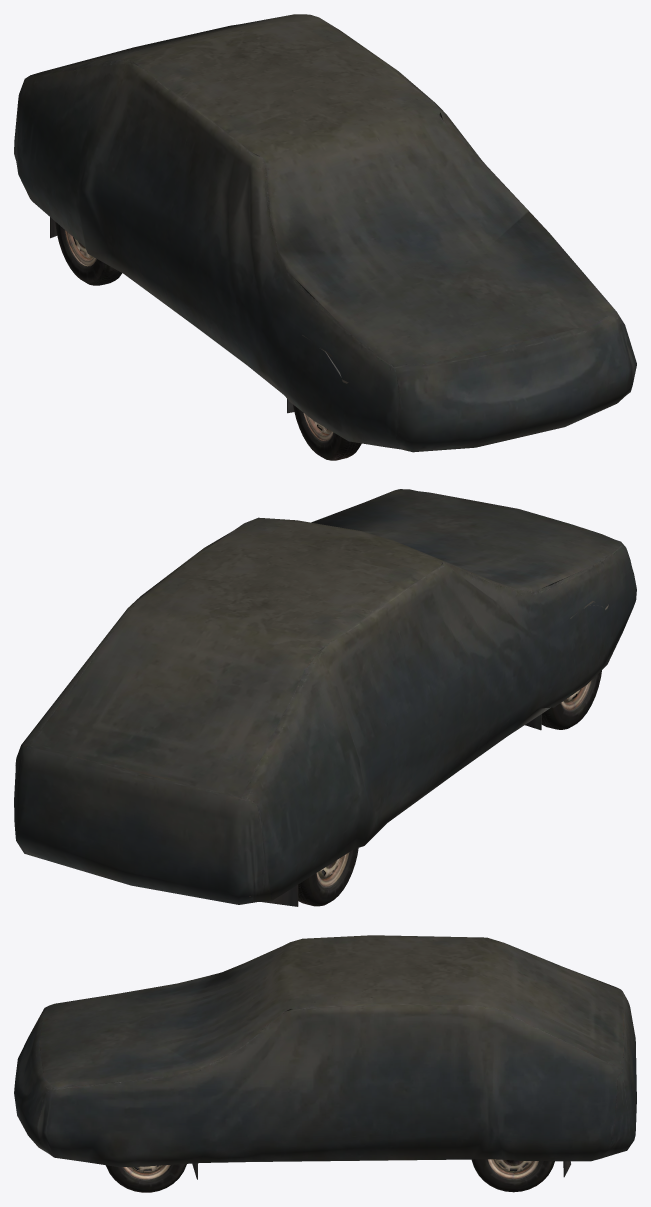
The model's file is covered_car.glb.
3 renders of one model, top to bottom at view 1: azimuth 30°, elevation 25°; view 2: azimuth 150°, elevation 25°; view 3: azimuth 270°, elevation 25°, orthographic. The views are drawn at different scales.
Parts seen in each view (by area): view 1: covered_car, covered_car_wheel_03, covered_car_wheel_02; view 2: covered_car, covered_car_wheel_03, covered_car_wheel_02; view 3: covered_car, covered_car_wheel_04, covered_car_wheel_01.
Part boxes in pixels (x1,y1,x2,y2): covered_car: [14, 14, 636, 452]; covered_car_wheel_03: [55, 222, 121, 285]; covered_car_wheel_02: [293, 404, 361, 460]; covered_car: [14, 489, 636, 906]; covered_car_wheel_03: [298, 848, 358, 906]; covered_car_wheel_02: [541, 670, 601, 729]; covered_car: [14, 935, 636, 1179]; covered_car_wheel_04: [471, 1159, 554, 1192]; covered_car_wheel_01: [106, 1164, 186, 1192].
Size of the model in its own units: 1.79 by 1.41 by 4.38.
1 material, 1 textured.
